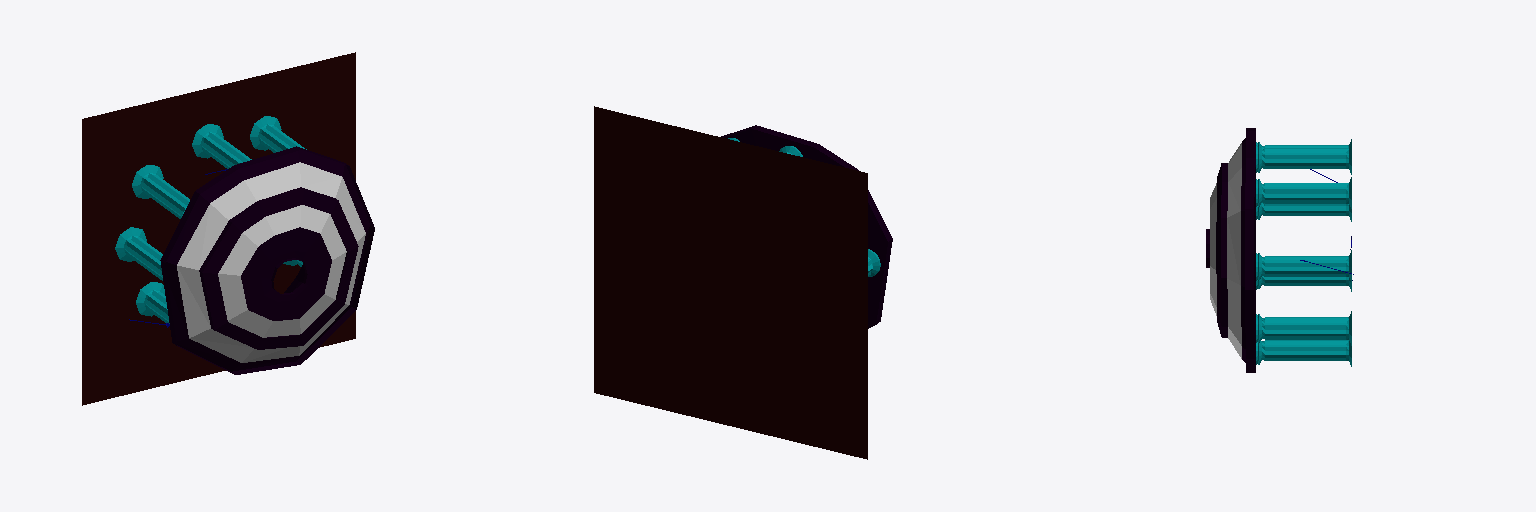
The model's file is SpearYard.obj.
The picture shows the model from 3 angles: view 1: azimuth 30°, elevation 25°; view 2: azimuth 150°, elevation 25°; view 3: azimuth 270°, elevation 25°; orthographic projection.
Visible parts, largest first — view 1: Plane, Plane.012_Plane.013, Plane.009_Plane.020, Plane.008_Plane.019, Plane.002, Plane.007_Plane.018, Plane.001_Plane.012; view 2: Plane, Plane.012_Plane.013; view 3: Plane.012_Plane.013, Plane.007_Plane.018, Plane.008_Plane.019, Plane.005_Plane.016, Plane.006_Plane.017, Plane.004_Plane.015, Plane.002, Plane.001_Plane.012.
Boxes of the visible parts, <box> form: Plane: <box>82,52,355,405</box>; Plane.012_Plane.013: <box>160,146,374,374</box>; Plane.009_Plane.020: <box>132,165,189,218</box>; Plane.008_Plane.019: <box>192,124,251,168</box>; Plane.002: <box>115,227,162,280</box>; Plane.007_Plane.018: <box>250,116,306,152</box>; Plane.001_Plane.012: <box>136,282,169,323</box>; Plane: <box>594,106,867,459</box>; Plane.012_Plane.013: <box>721,125,892,328</box>; Plane.012_Plane.013: <box>1206,128,1255,372</box>; Plane.007_Plane.018: <box>1256,177,1351,208</box>; Plane.008_Plane.019: <box>1256,143,1351,174</box>; Plane.005_Plane.016: <box>1256,313,1351,345</box>; Plane.006_Plane.017: <box>1256,250,1351,282</box>; Plane.004_Plane.015: <box>1256,340,1351,366</box>; Plane.002: <box>1256,203,1351,221</box>; Plane.001_Plane.012: <box>1256,276,1351,291</box>.
Bounding box in the file's own units: 1.33 × 1.33 × 0.6238.